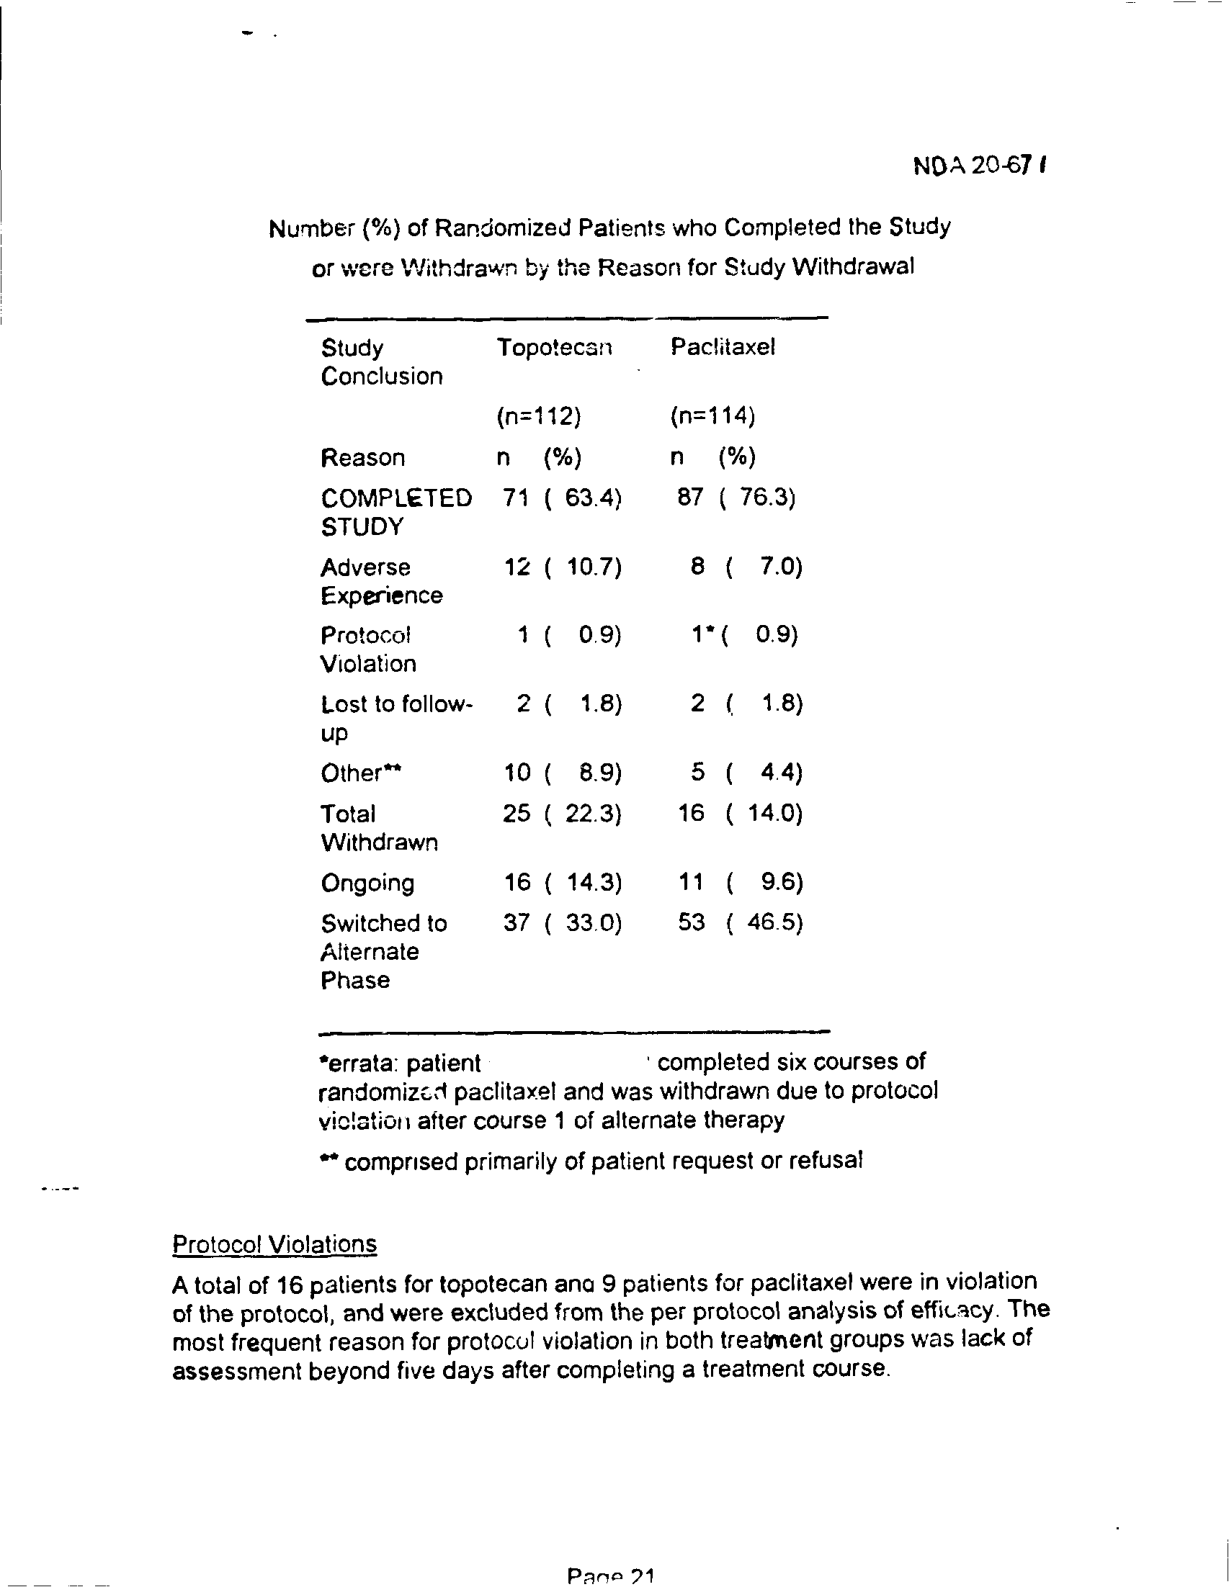partial_lined: (304, 318, 835, 1036)
